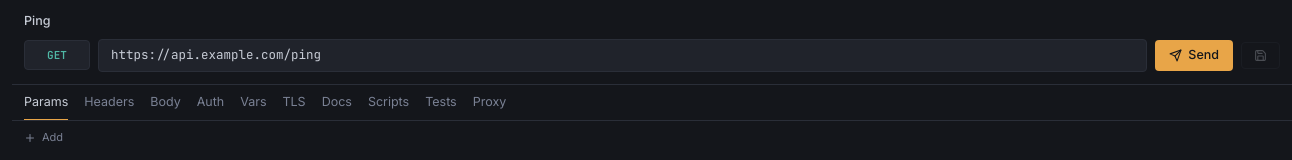
it: RequestBuilder › disables Save until the request is dirty
The width and height of the screenshot is (1292, 160).
Expected: the button titled "Save (Ctrl/Cmd+S)" is disabled, [1241,42,1280,69]
Replace the text in the 1st field showing "Ping" with "Ping2" at (652, 21), box [24,12,1280,31]
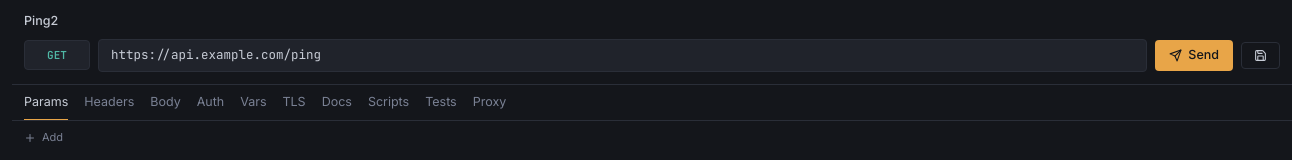
Now the button titled "Save (Ctrl/Cmd+S)" is enabled, box [1241,42,1280,69]
